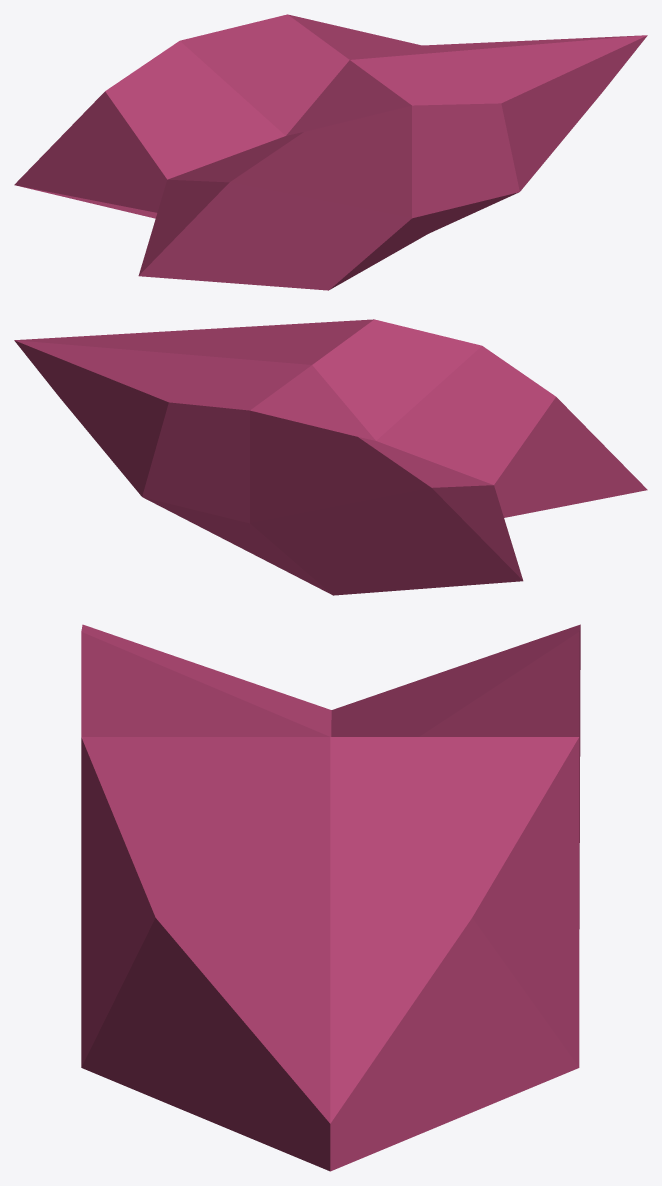
The model's file is Space Fighter Crips.glb.
3 renders of one model, top to bottom at view 1: azimuth 30°, elevation 25°; view 2: azimuth 150°, elevation 25°; view 3: azimuth 270°, elevation 25°, orthographic. The views are drawn at different scales.
Visible parts, largest first — view 1: Space Fighter Enemy; view 2: Space Fighter Enemy; view 3: Space Fighter Enemy.
Boxes of the visible parts, left/top/right/bottom form: Space Fighter Enemy: left=14, top=14, right=647, bottom=290; Space Fighter Enemy: left=14, top=319, right=647, bottom=595; Space Fighter Enemy: left=81, top=624, right=580, bottom=1171.
Size of the model in its own units: 0.5302 by 0.1459 by 0.2005.
